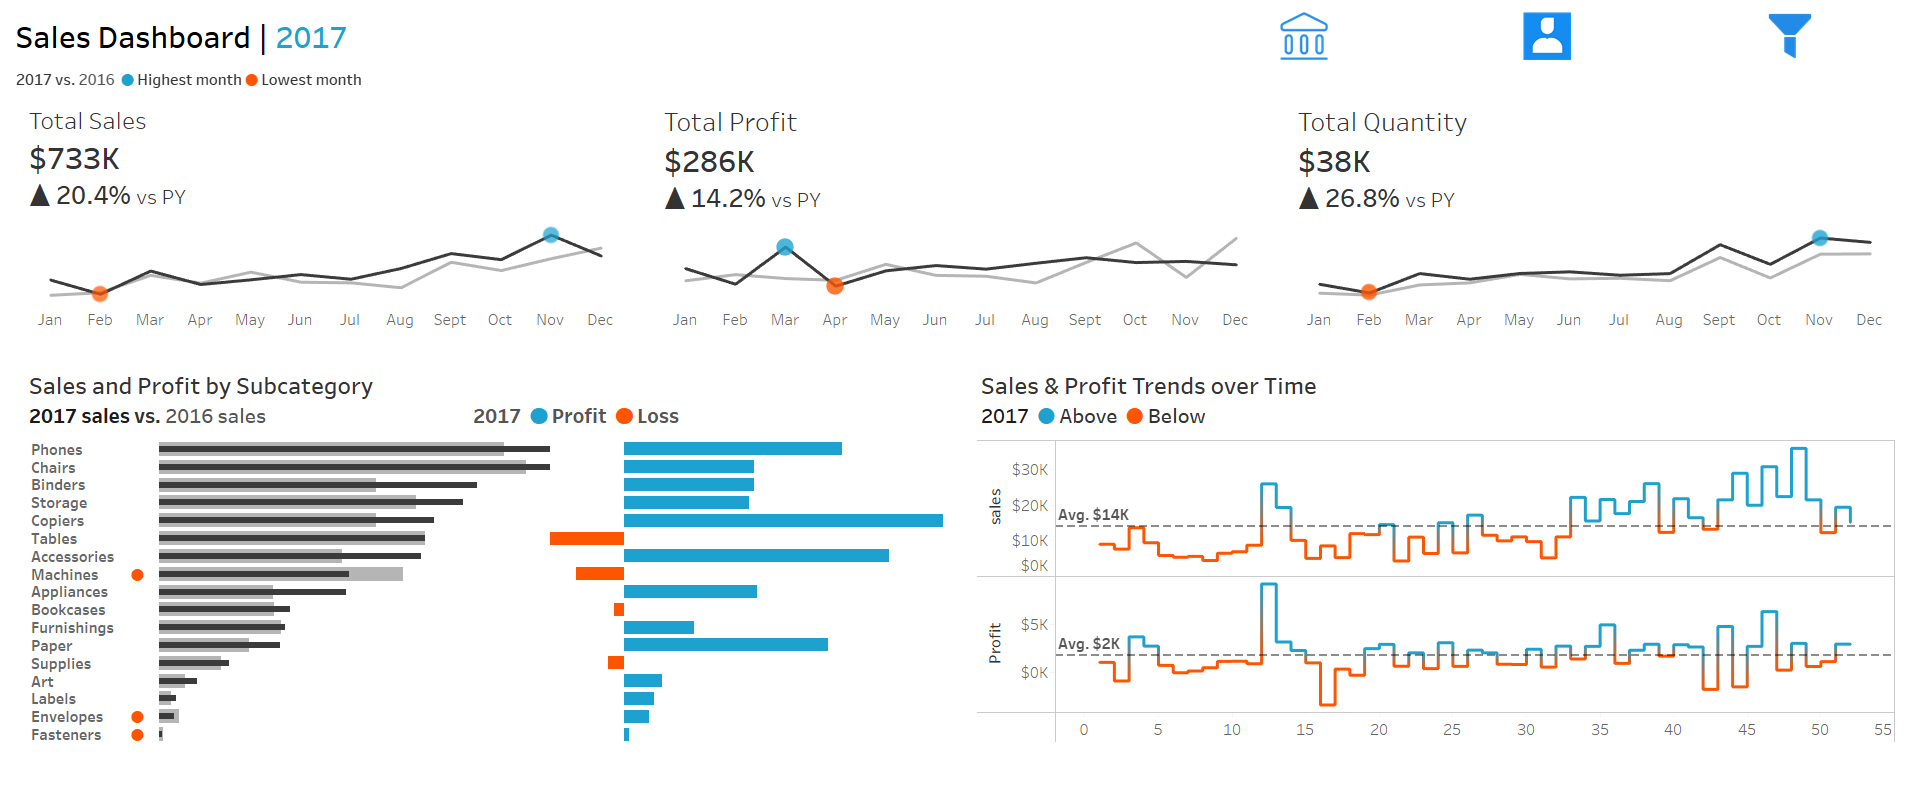

This screenshot's page, from the dashboard's own definition file:
{"tool":"tableau","page":{"name":"Sales Dashboard","canvas":[1000,1000],"units":"permille","ordinal":1},"visuals":[{"type":"text","box":[5,10.7,741.2,75]},{"type":"dashboard-object","box":[746.2,10.7,83.3,75]},{"type":"dashboard-object","box":[829.6,10.7,82.7,75]},{"type":"dashboard-object","box":[912.2,10.7,82.7,75]},{"type":"worksheet","title":"legend for KPI","mark":"Automatic","box":[5,85.7,989.9,38.8]},{"type":"worksheet","title":"sales","mark":"Automatic","rows":["Calculation_1280148218790526981"],"cols":["Order Date"],"box":[5,124.5,329.6,341.4]},{"type":"worksheet","title":"Profit","mark":"Automatic","rows":["min/max sales (copy)_1631991939967672327"],"cols":["Order Date"],"box":[334.7,124.5,329.6,341.4]},{"type":"worksheet","title":"Quantity","mark":"Automatic","rows":["min/max Profit (copy)_1631991939972718606"],"cols":["Order Date"],"box":[664.3,124.5,330.3,341.4]},{"type":"blank","box":[796.5,131.6,199,50]},{"type":"text","box":[796.5,181.6,199,45]},{"type":"parameter","param":"[Parameters].[Parameter 1]","box":[796.5,226.6,199,70]},{"type":"text","box":[796.5,296.6,199,45]},{"type":"filter","title":"Profit","param":"[federated.08rdsjo1la92t11doqkdw1l9hc9z].[none:Category:nk]","box":[796.5,341.6,199,70]},{"type":"filter","title":"Profit","param":"[federated.08rdsjo1la92t11doqkdw1l9hc9z].[none:Sub-Category:nk]","box":[796.5,411.6,199,76.2]},{"type":"worksheet","title":"Subcategory sales","mark":"Bar","rows":["Sub-Category","Calculation_1631991940323966991"],"cols":["Calculation_1280148218784563201","Calculation_1280148218784239616","Calculation_1631991939942809602"],"box":[5,465.9,494.9,523.4]},{"type":"worksheet","title":"Sales and profit trends","mark":"Line","rows":["Calculation_1280148218784239616","Calculation_1631991939942809602"],"cols":["Order Date"],"box":[500,465.9,494.9,523.4]},{"type":"blank","box":[796.5,487.9,199,50]},{"type":"text","box":[796.5,537.9,199,45]},{"type":"filter","title":"Profit","param":"[federated.08rdsjo1la92t11doqkdw1l9hc9z].[none:Region:nk]","box":[796.5,582.9,199,76.2]},{"type":"filter","title":"Profit","param":"[federated.08rdsjo1la92t11doqkdw1l9hc9z].[none:State:nk]","box":[796.5,659.1,199,76.2]}]}

Visuals, with their boxes on the dashboard's canvas, which has no fixed pixel size, in thousandths of its width and height (x1, y1, x2, y2). These are canvas units, not pixel positions in the 1918x792 screenshot, which may show the page scaled, cropped or inside an application window:
text: 5 11 746 86
dashboard-object: 746 11 830 86
dashboard-object: 830 11 912 86
dashboard-object: 912 11 995 86
"legend for KPI" worksheet: 5 86 995 124
"sales" worksheet: 5 124 335 466
"Profit" worksheet: 335 124 664 466
"Quantity" worksheet: 664 124 995 466
blank: 796 132 996 182
text: 796 182 996 227
parameter: 796 227 996 297
text: 796 297 996 342
"Profit" filter: 796 342 996 412
"Profit" filter: 796 412 996 488
"Subcategory sales" worksheet (Bar marks): 5 466 500 989
"Sales and profit trends" worksheet (Line marks): 500 466 995 989
blank: 796 488 996 538
text: 796 538 996 583
"Profit" filter: 796 583 996 659
"Profit" filter: 796 659 996 735
